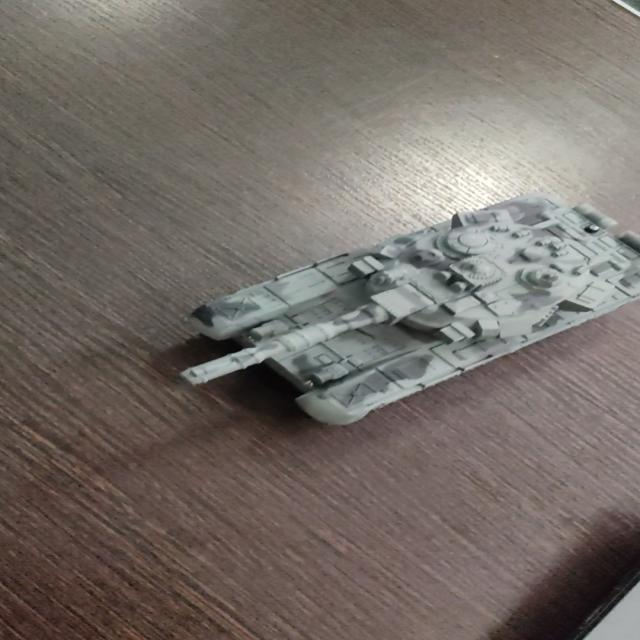tank: (184, 194, 640, 427)
